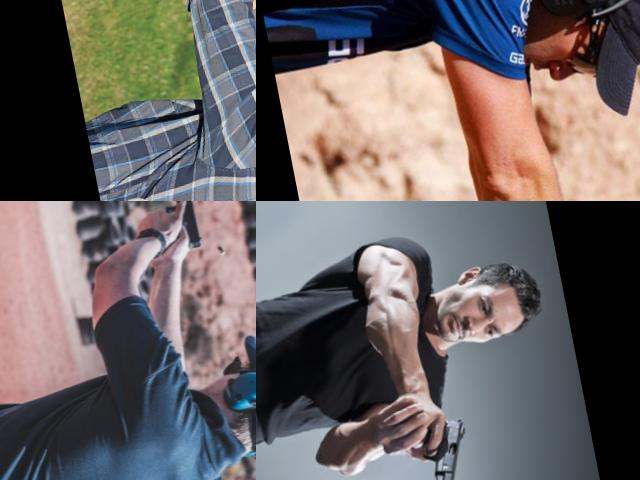handgun: (409, 411, 482, 480), (151, 201, 207, 257), (213, 0, 256, 63)
